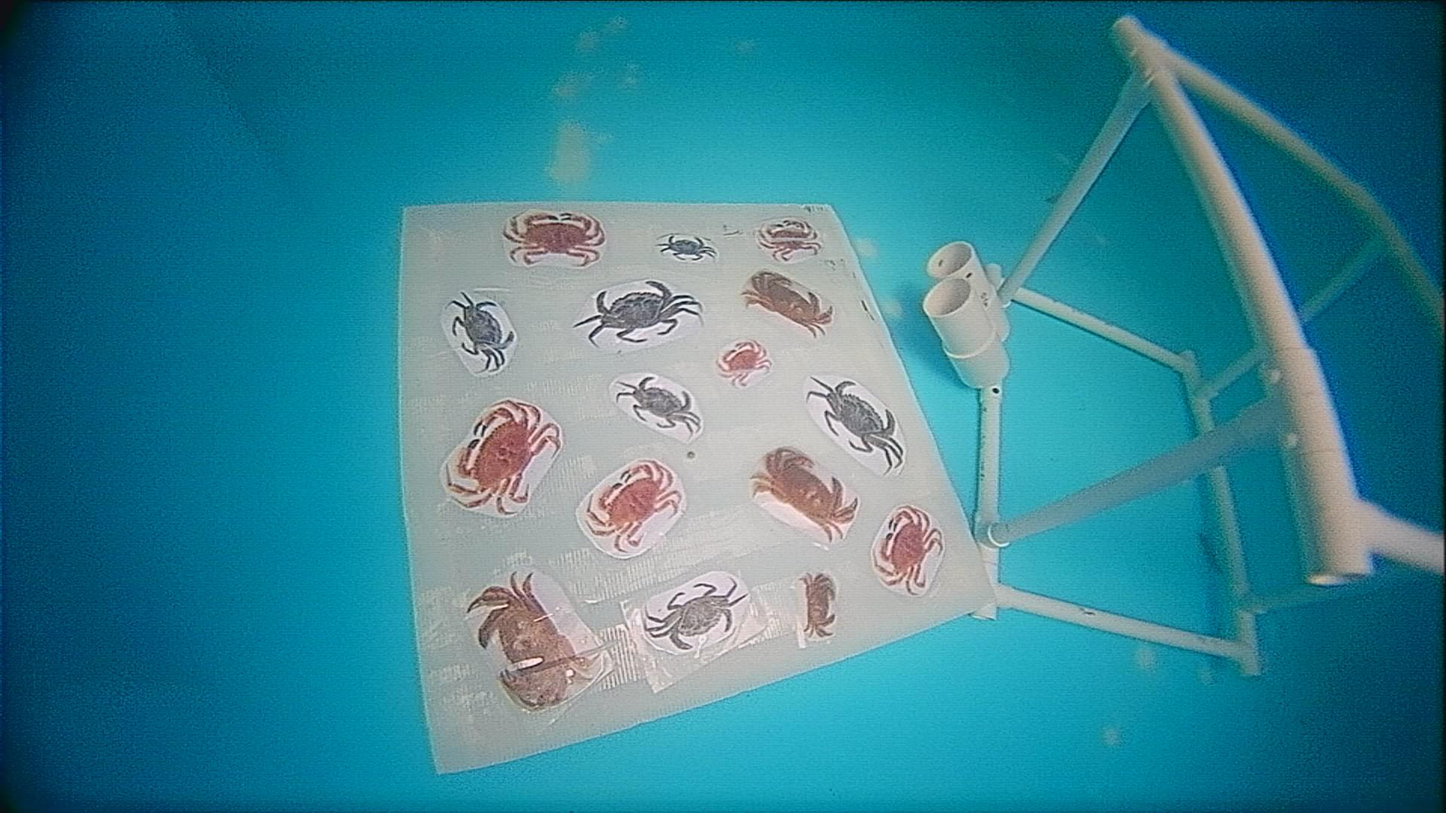GreenCrab: (808, 379, 902, 469), (574, 281, 700, 346), (645, 581, 746, 650), (451, 292, 514, 368), (615, 376, 700, 429)
